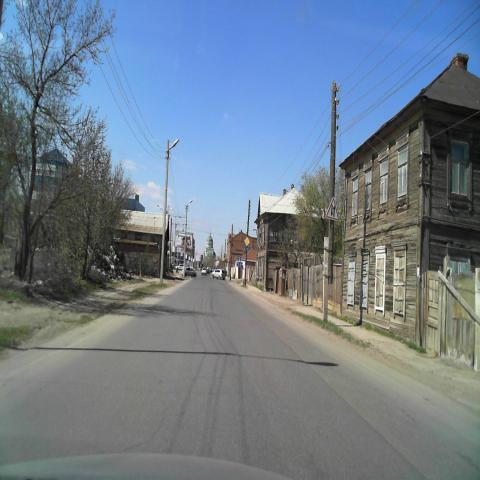1_21: (326, 196, 340, 222)
